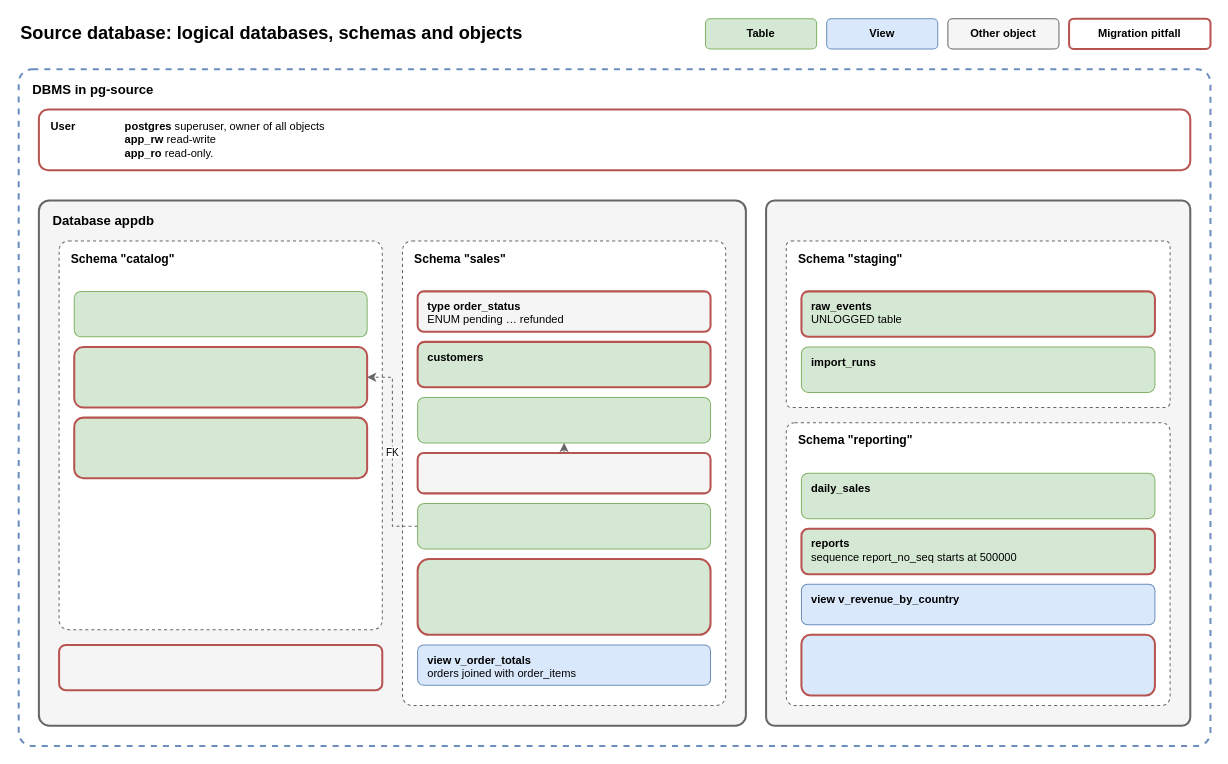
Image size: 1228x764. Some labels were removed from this diagram. The box of each missing label's shape, as (x1, y1, x2, y2) in pixels:
categories: (73, 290, 367, 337)
Database analyticsdb: (765, 199, 1191, 726)
events grows with load-data.sh partitioned by month: (416, 558, 711, 635)
Extension pg_trgm: (58, 643, 383, 691)
function touch_updated_at() sets updated_at on every UPDATE: (416, 451, 711, 494)
materialized view mv_monthly_revenue: (800, 633, 1155, 696)
order_items: (417, 502, 711, 549)
orders: (417, 396, 711, 443)
product_reviews (can grow artifically with the script): (73, 416, 368, 479)
products -> needs Extension (pg_trgm): (73, 345, 368, 408)
